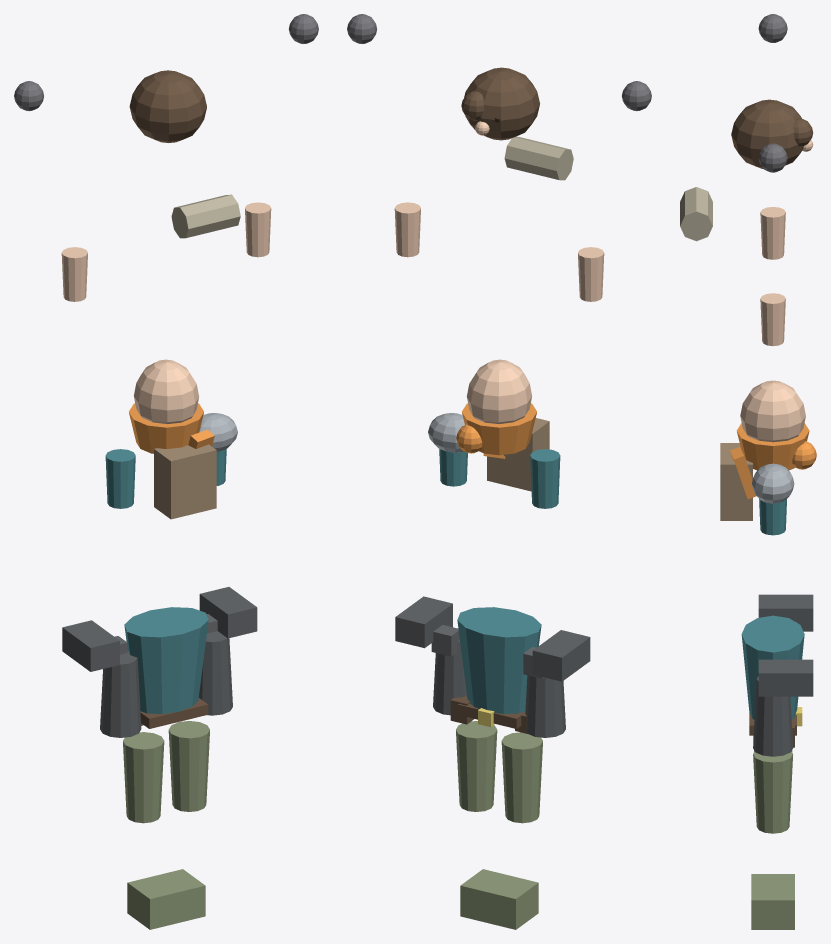
Rendered from player_survivor.glb.
3 views of the same model, side by side, from view 1: azimuth 30°, elevation 25°; view 2: azimuth 150°, elevation 25°; view 3: azimuth 270°, elevation 25° (orthographic). The views are drawn at different scales.
Visible parts, largest first — view 1: TORSO, HAIR, BACKPACK, HIPS, LEG_L, HEAD, LEG_R, BOOT_R, BOOT_L, BOOT_R_FOOT, Bedroll, BOOT_L_FOOT (+8 smaller); view 2: TORSO, HIPS, HAIR, HEAD, LEG_R, LEG_L, BOOT_R, BOOT_R_FOOT, Bedroll, BOOT_L_FOOT, BACKPACK, SCARF (+10 smaller); view 3: HAIR, HEAD, TORSO, LEG_L, HIPS, BOOT_L, BOOT_L_FOOT, BACKPACK, SCARF, BOOT_R_FOOT, Bedroll, SHOULDER_ARMOR (+8 smaller).
Part boxes in pixels (x1,y1,x2,y2): TORSO: (124, 607, 208, 713); HAIR: (129, 70, 206, 142); BACKPACK: (154, 444, 216, 519); HIPS: (127, 869, 205, 929); LEG_L: (168, 721, 209, 811); HEAD: (134, 359, 199, 423); LEG_R: (123, 732, 164, 823); BOOT_R: (100, 651, 141, 737); BOOT_L: (198, 631, 232, 715); BOOT_R_FOOT: (62, 620, 119, 671); Bedroll: (171, 194, 240, 238); BOOT_L_FOOT: (199, 587, 257, 638); TORSO: (457, 607, 541, 713); HIPS: (460, 869, 538, 929); HAIR: (464, 67, 539, 140); HEAD: (466, 359, 531, 423); LEG_R: (501, 732, 542, 823); LEG_L: (456, 721, 497, 811); BOOT_R: (525, 675, 565, 737); BOOT_R_FOOT: (532, 630, 590, 681); Bedroll: (504, 136, 573, 180); BOOT_L_FOOT: (395, 596, 452, 648); BACKPACK: (487, 418, 549, 491); SCARF: (462, 403, 536, 455); HAIR: (731, 99, 803, 168); HEAD: (740, 380, 805, 442); TORSO: (741, 615, 804, 719); LEG_L: (753, 751, 793, 833); HIPS: (751, 874, 794, 929); BOOT_L: (753, 676, 792, 756); BOOT_L_FOOT: (758, 659, 813, 696); BACKPACK: (720, 443, 752, 520); SCARF: (736, 423, 809, 470); BOOT_R_FOOT: (758, 594, 813, 631); Bedroll: (680, 187, 712, 241); SHOULDER_ARMOR: (752, 463, 794, 503).
Bounding box in the file's own units: 0.7636 × 2.1 × 0.3113.
